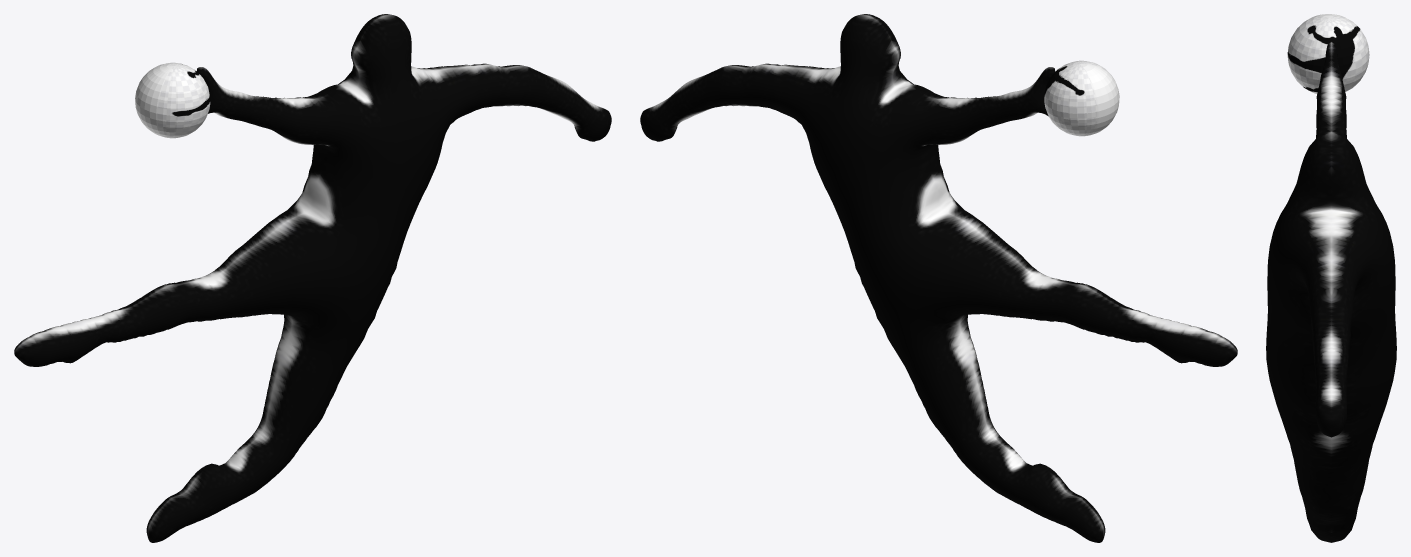
The model's file is kezilabda1.glb.
3 renders of one model, left to right at view 1: azimuth 30°, elevation 25°; view 2: azimuth 150°, elevation 25°; view 3: azimuth 270°, elevation 25°, orthographic. The views are drawn at different scales.
Parts seen in each view (by area): view 1: body; view 2: body; view 3: body.
Boxes of the visible parts, left/top/right/bottom form: body: left=14, top=14, right=611, bottom=542; body: left=640, top=14, right=1237, bottom=542; body: left=1266, top=14, right=1396, bottom=542.
Bounding box in the file's own units: 6.87 × 5.21 × 1.2.
Materials: 1 (1 with a texture image).
